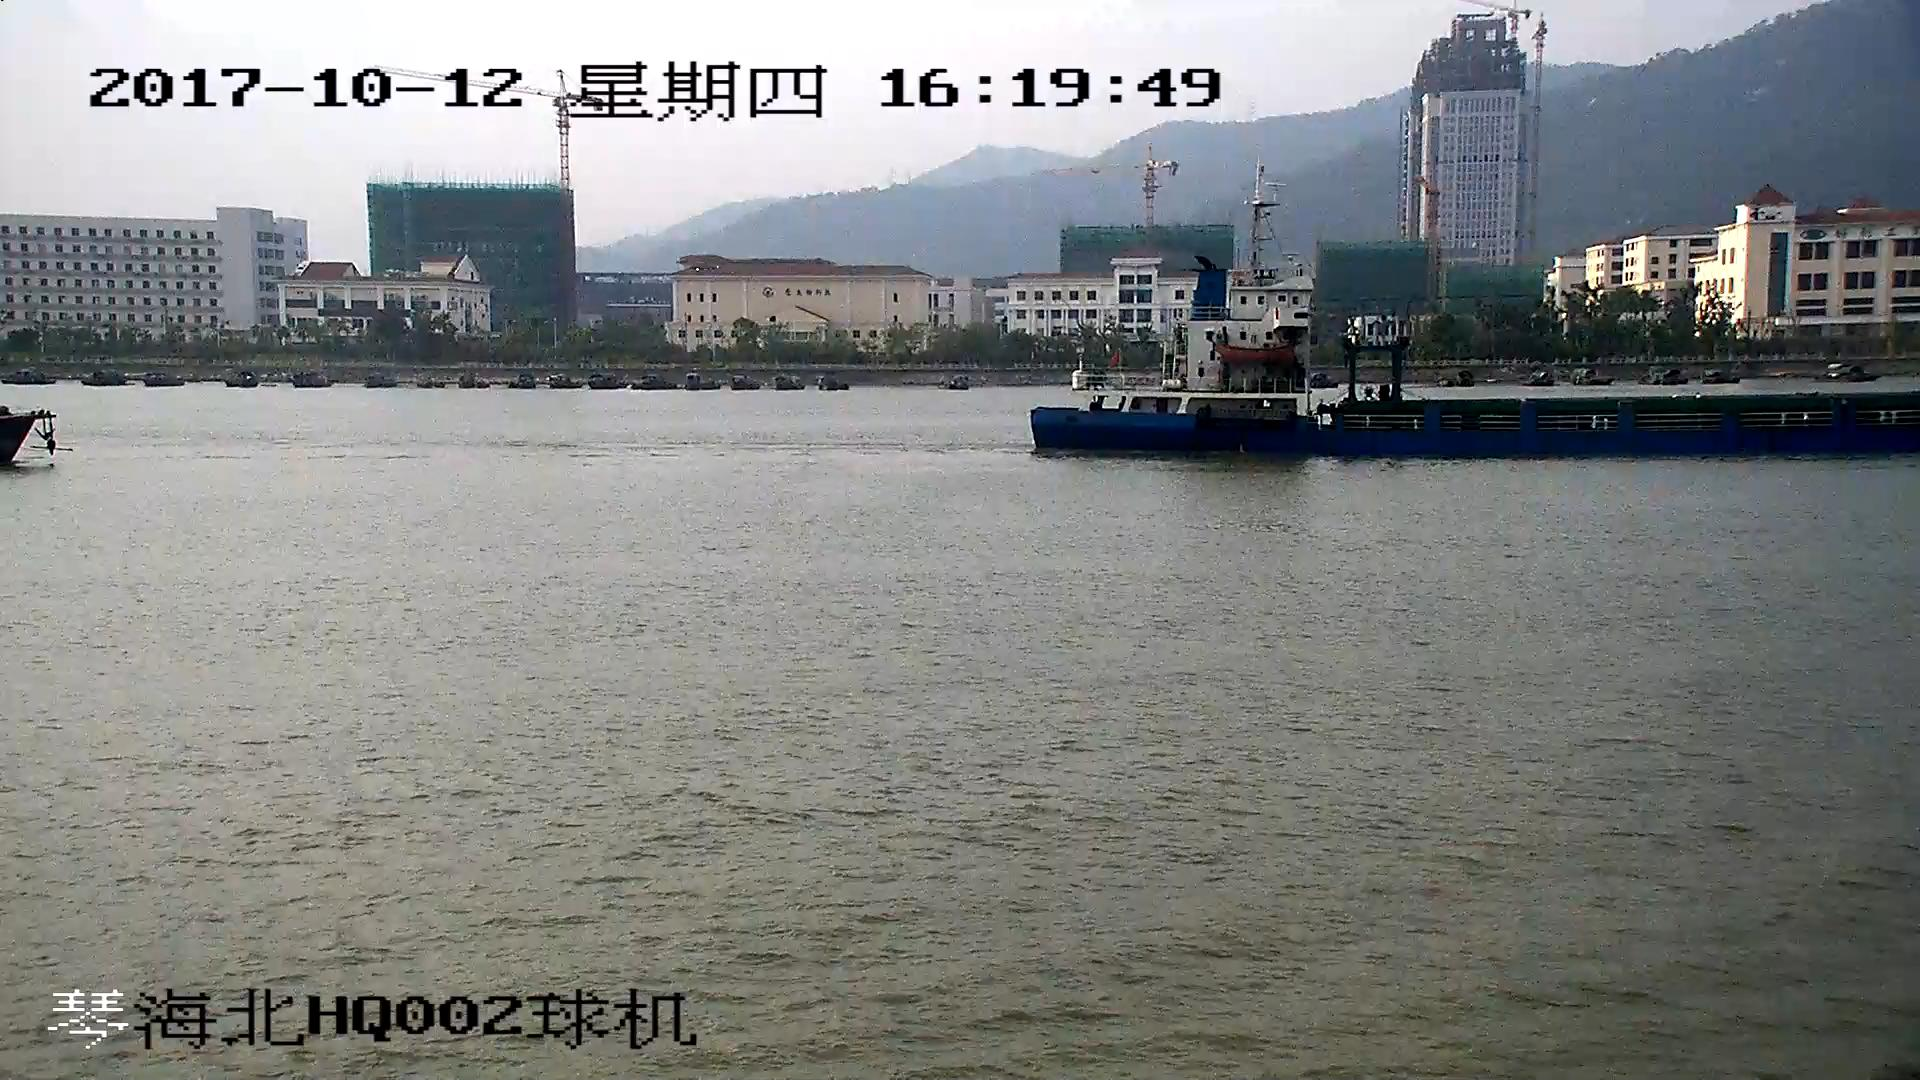general cargo ship: (1029, 176, 1920, 456)
